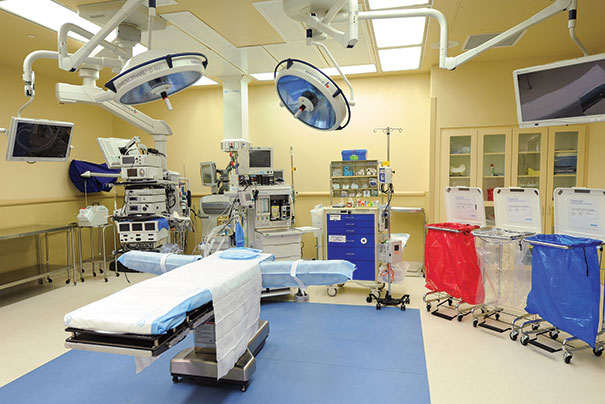bedside_monitor: (514, 52, 605, 130), (1, 116, 74, 166), (97, 134, 142, 169), (194, 161, 219, 187), (250, 150, 271, 174)
cabinet: (443, 131, 587, 219)
handle: (343, 216, 356, 220), (344, 240, 355, 243), (344, 253, 355, 256), (345, 229, 356, 232), (344, 223, 355, 226)
iv_pole: (377, 122, 406, 312)
medical_drawer: (320, 206, 377, 295)
operating_bed: (62, 243, 356, 390)
surgical_light: (273, 54, 354, 135), (105, 47, 209, 106)
utility_cart: (523, 232, 605, 357), (1, 217, 80, 298), (69, 222, 125, 279)
ventilator: (225, 180, 305, 259)
waste_bin: (527, 234, 600, 347), (468, 220, 526, 324), (421, 220, 483, 307)
